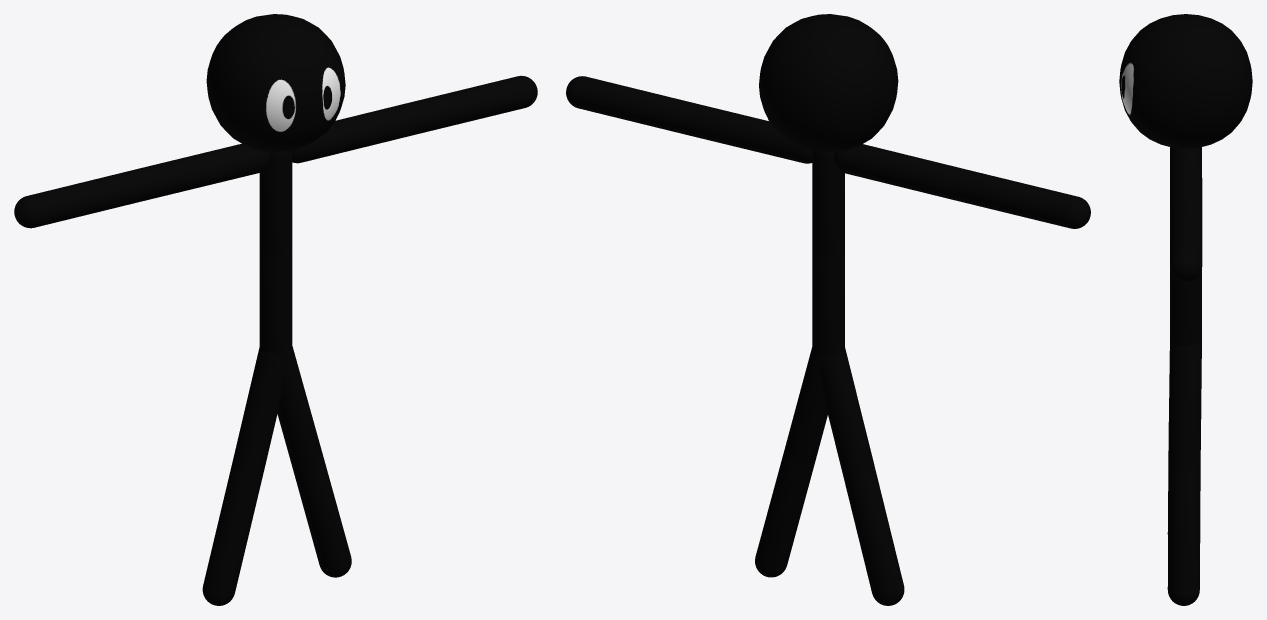
Rendered from Stickman.fbx.
The picture shows the model from 3 angles, left to right: view 1: azimuth 30°, elevation 25°; view 2: azimuth 150°, elevation 25°; view 3: azimuth 270°, elevation 25°; orthographic projection. The views are drawn at different scales.
Visible parts, largest first — view 1: Head, R_Arm2, R_Leg2, L_Arm2, R_Leg1, R_Arm1, L_Leg2, L_Arm1, UpperBody, LowerBody, L_Leg1; view 2: Head, R_Arm2, R_Leg2, L_Arm2, R_Leg1, R_Arm1, L_Leg2, L_Arm1, UpperBody, LowerBody, L_Leg1; view 3: Head, L_Leg2, L_Leg1, L_Arm2, LowerBody, L_Arm1.
Part boxes in pixels (<box>): Head: <box>206,14,345,152</box>; R_Arm2: <box>14,168,150,228</box>; R_Leg2: <box>202,466,263,605</box>; L_Arm2: <box>406,75,537,134</box>; R_Leg1: <box>231,347,284,474</box>; R_Arm1: <box>139,143,270,199</box>; L_Leg2: <box>290,451,351,577</box>; L_Arm1: <box>292,103,417,163</box>; UpperBody: <box>259,150,292,256</box>; LowerBody: <box>259,250,292,354</box>; L_Leg1: <box>277,346,321,463</box>; Head: <box>759,14,898,152</box>; R_Arm2: <box>954,169,1090,228</box>; R_Leg2: <box>843,466,904,605</box>; L_Arm2: <box>566,76,696,135</box>; R_Leg1: <box>820,348,874,475</box>; R_Arm1: <box>834,144,964,200</box>; L_Leg2: <box>755,451,815,577</box>; L_Arm1: <box>686,104,812,163</box>; UpperBody: <box>812,150,844,257</box>; LowerBody: <box>812,252,844,355</box>; L_Leg1: <box>784,347,827,464</box>; Head: <box>1119,14,1252,148</box>; L_Leg2: <box>1167,466,1200,605</box>; L_Leg1: <box>1168,341,1201,467</box>; L_Arm2: <box>1170,198,1202,281</box>; LowerBody: <box>1170,245,1201,345</box>; L_Arm1: <box>1170,148,1202,210</box>.
Bounding box in the file's own units: 848 × 193 × 887.
